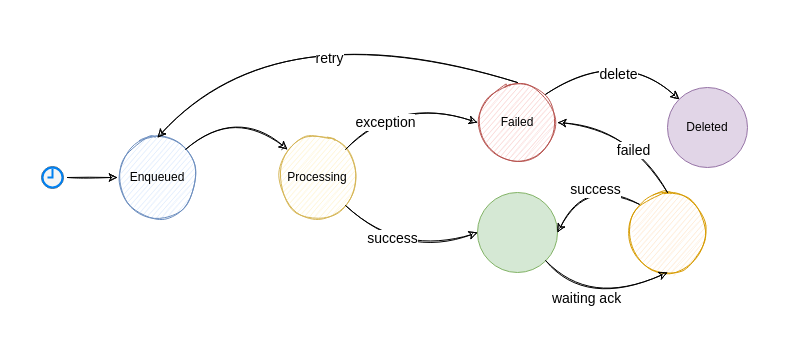
The diagram is 795 pixels wide and 345 high, and some of its shapes have lost their labels. The centre of each missing label's shape, as x and y in pixels:
Succeeded: point 517,232
WaitingAck: point 667,232
